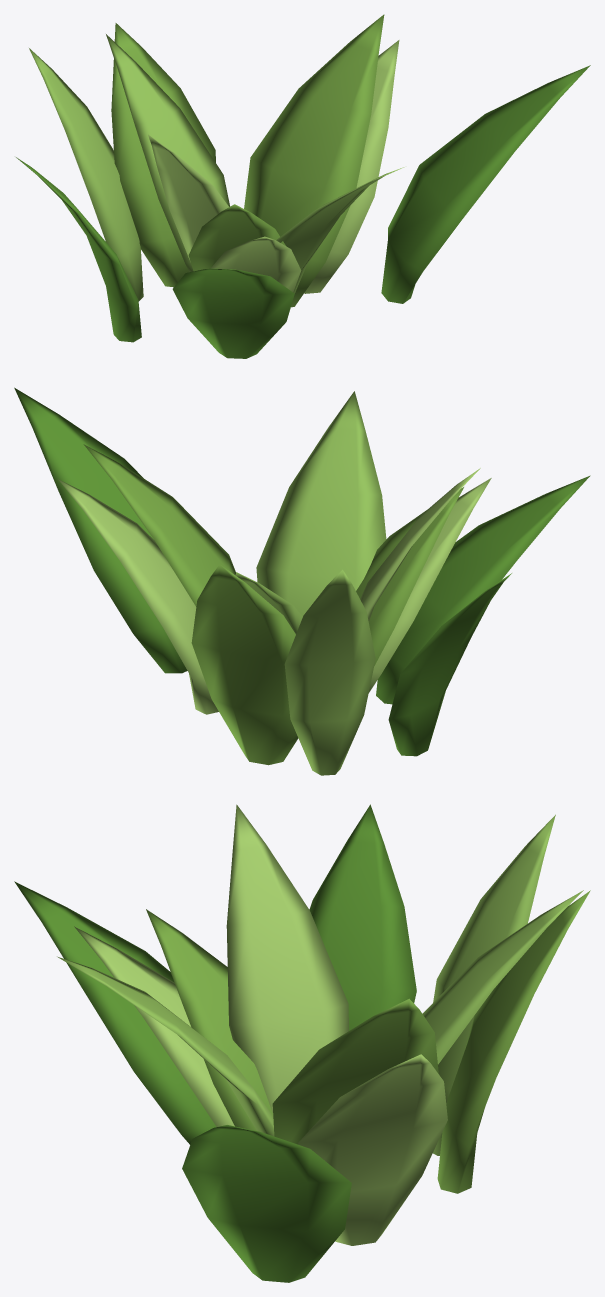
The model's file is foliage_grass_small.glb.
The picture shows the model from 3 angles, top to bottom: view 1: azimuth 30°, elevation 25°; view 2: azimuth 150°, elevation 25°; view 3: azimuth 270°, elevation 25°; orthographic projection. The views are drawn at different scales.
Visible parts, largest first — view 1: foliage_grass_small; view 2: foliage_grass_small; view 3: foliage_grass_small.
Part boxes in pixels (x1,y1,x2,y2): foliage_grass_small: (16,14,590,358); foliage_grass_small: (14,387,590,775); foliage_grass_small: (14,804,590,1282).
Size of the model in its own units: 0.7771 by 0.3393 by 0.581.
